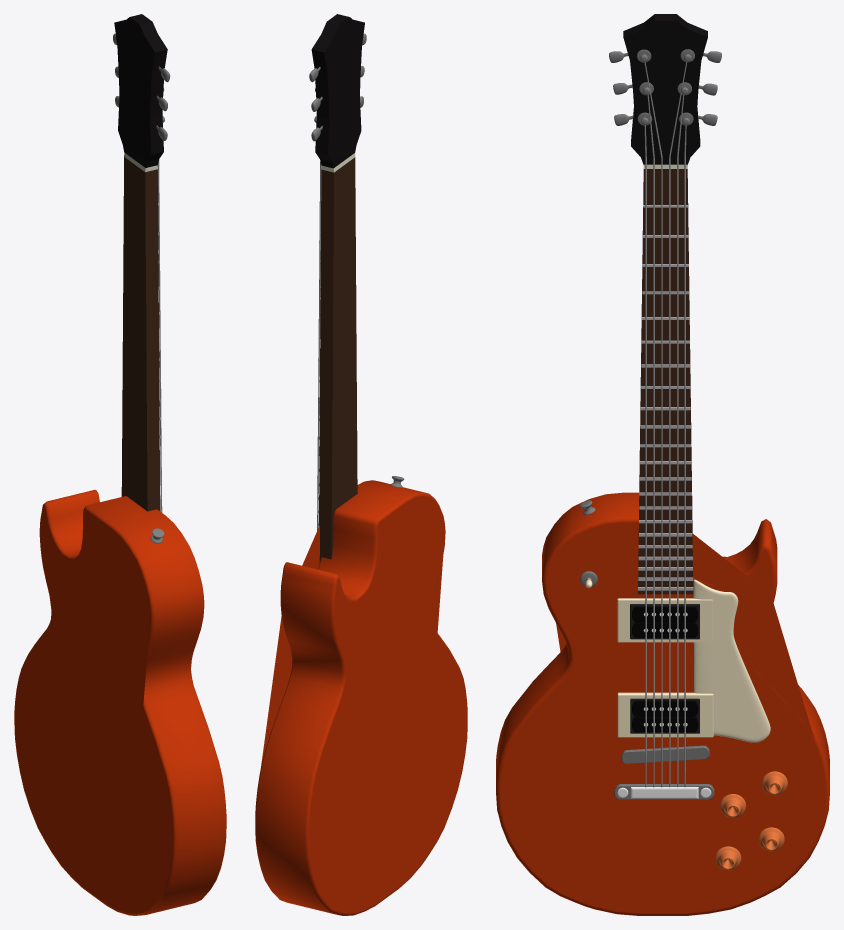
File: chitarra elettrica.fbx
3 renders of one model, left to right at view 1: azimuth 30°, elevation 25°; view 2: azimuth 150°, elevation 25°; view 3: azimuth 270°, elevation 25°, orthographic. The views are drawn at different scales.
Parts seen in each view (by area): view 1: Corpo, Manico, Cylinder.021, Cube.029; view 2: Corpo, Manico, Cylinder.021, Cube.029; view 3: Corpo, Manico, Cylinder.021, Plane, Cube.001, Cube.032, Cube.037, Cube.003, Cylinder.002, Cube.029, Cylinder.011.
Part boxes in pixels (x1=…): Corpo: x1=14, y1=489, x2=226, y2=915; Manico: x1=114, y1=14, x2=167, y2=511; Cylinder.021: x1=157, y1=160, x2=162, y2=512; Cube.029: x1=113, y1=33, x2=170, y2=140; Corpo: x1=255, y1=480, x2=467, y2=915; Manico: x1=311, y1=14, x2=364, y2=562; Cylinder.021: x1=317, y1=161, x2=321, y2=530; Cube.029: x1=309, y1=33, x2=366, y2=141; Corpo: x1=496, y1=492, x2=829, y2=915; Manico: x1=623, y1=14, x2=707, y2=594; Cylinder.021: x1=644, y1=61, x2=687, y2=787; Plane: x1=693, y1=579, x2=770, y2=742; Cube.001: x1=617, y1=598, x2=713, y2=737; Cube.032: x1=614, y1=745, x2=714, y2=799; Cube.037: x1=630, y1=604, x2=699, y2=639; Cube.003: x1=630, y1=698, x2=699, y2=733; Cylinder.002: x1=715, y1=771, x2=787, y2=870; Cube.029: x1=609, y1=51, x2=721, y2=125; Cylinder.011: x1=637, y1=49, x2=694, y2=125.
Bounding box in the file's own units: 26.67 × 328 × 110.
